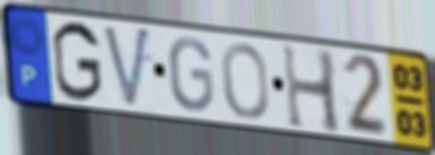2: (340, 51, 390, 138)
G: (49, 18, 105, 105), (166, 35, 216, 114)
H: (279, 40, 344, 137)
O: (219, 40, 272, 122)
V: (100, 23, 153, 113)
